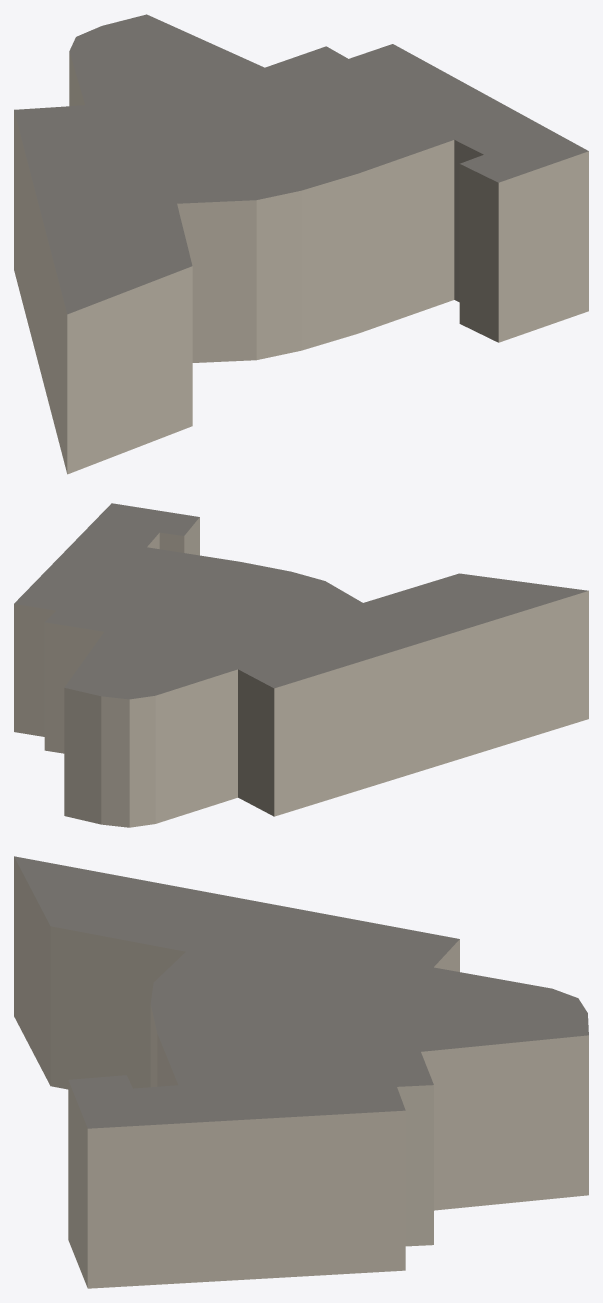
3 views of the same model, one above another, from view 1: azimuth 30°, elevation 25°; view 2: azimuth 150°, elevation 25°; view 3: azimuth 270°, elevation 25° (orthographic). The views are drawn at different scales.
Visible parts, largest first — view 1: HP-w1200756572; view 2: HP-w1200756572; view 3: HP-w1200756572.
Part boxes in pixels (bbox=[...]): HP-w1200756572: bbox=[14, 14, 588, 474]; HP-w1200756572: bbox=[14, 503, 588, 827]; HP-w1200756572: bbox=[14, 856, 588, 1288].
Bounding box in the file's own units: 65.74 × 18 × 58.63.
